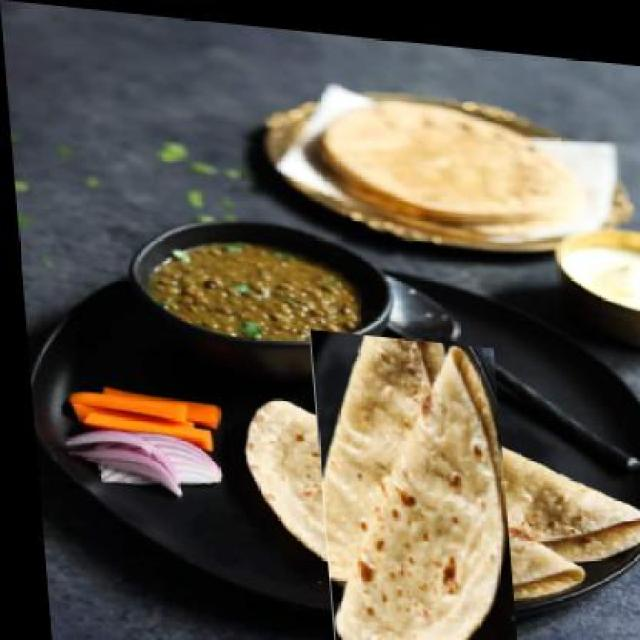chapati: (271, 356, 546, 636), (317, 366, 638, 559), (319, 86, 567, 217)
